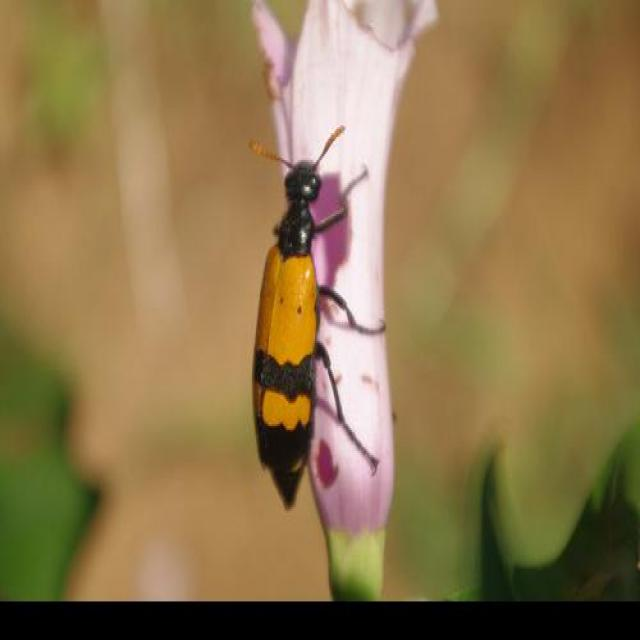BlisterBeetle-Adult-: (238, 120, 390, 515)
